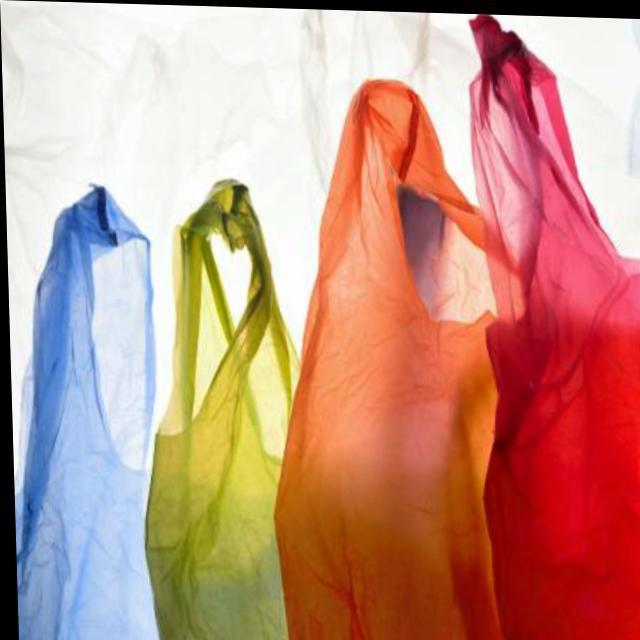Single-layer Plastic: (276, 81, 501, 640), (470, 16, 640, 640), (146, 180, 294, 640), (19, 186, 158, 639)
